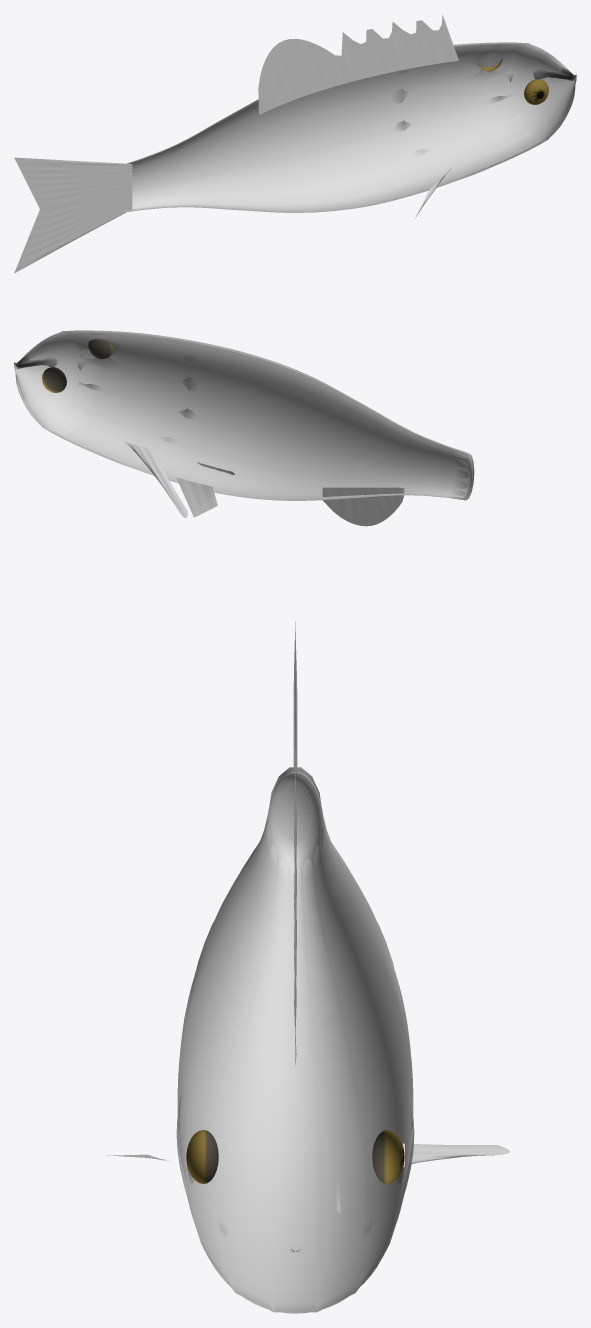
The model's file is largemouth-bass.glb.
3 renders of one model, top to bottom at view 1: azimuth 30°, elevation 25°; view 2: azimuth 150°, elevation 25°; view 3: azimuth 270°, elevation 25°, orthographic. The views are drawn at different scales.
Visible parts, largest first — view 1: BodyLow, Fins, Body, Eyes; view 2: BodyLow, Body, Fins, Eyes; view 3: BodyLow, Body, Fins, Eyes.
Boxes of the visible parts, x1,y1,x2,y2 form: BodyLow: (123,42,576,212); Fins: (14,15,458,273); Body: (125,42,576,212); Eyes: (478,58,548,104); BodyLow: (14,330,474,500); Body: (14,330,472,500); Fins: (124,403,404,526); Eyes: (42,339,112,392); BodyLow: (177,767,413,1312); Body: (176,771,414,1313); Fins: (107,621,509,1213); Eyes: (186,1130,404,1183).
Size of the model in its own units: 0.6165 by 0.2078 by 0.2038.
